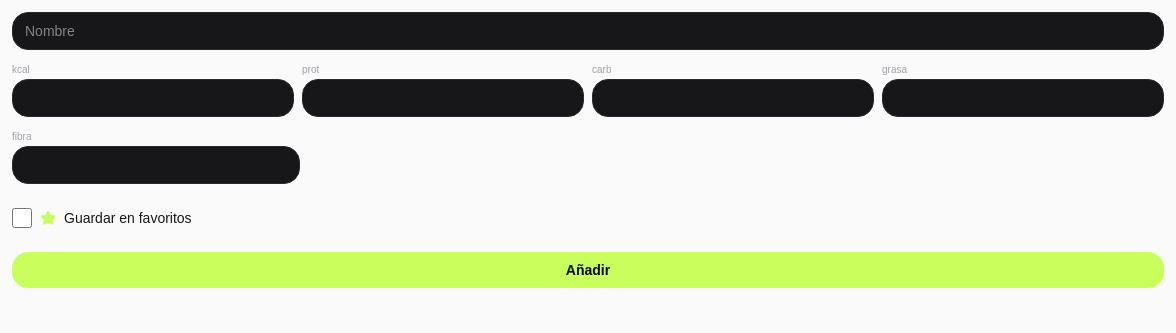
R3: «Guardar en favoritos» al registrar una personalizada › R3: con la fibra no válida, el mismo error de hoy y no se envía nada
In the field with placeholder "Nombre": (588,31) x1=12 y1=12 x2=1164 y2=50, type "Tortilla francesa"
In the number field labelled "kcal": (153,98) x1=12 y1=79 x2=294 y2=117, type "190"
In the number field labelled "prot": (443,98) x1=302 y1=79 x2=584 y2=117, type "13"
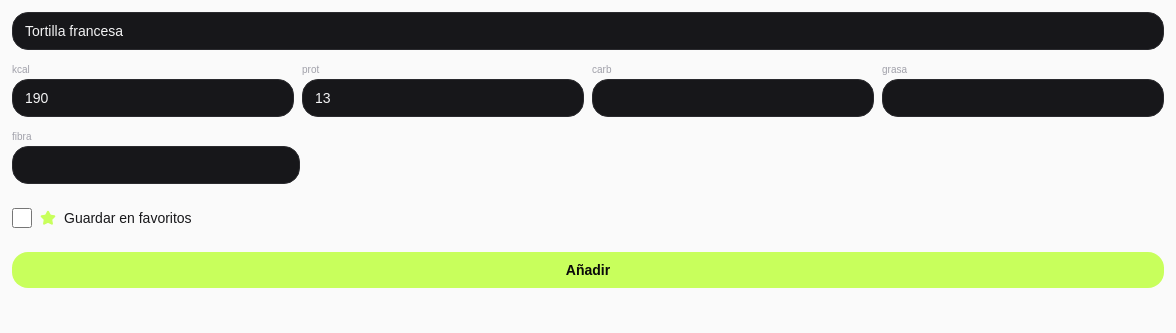
In the number field labelled "carb": (733,98) x1=592 y1=79 x2=874 y2=117, type "1"
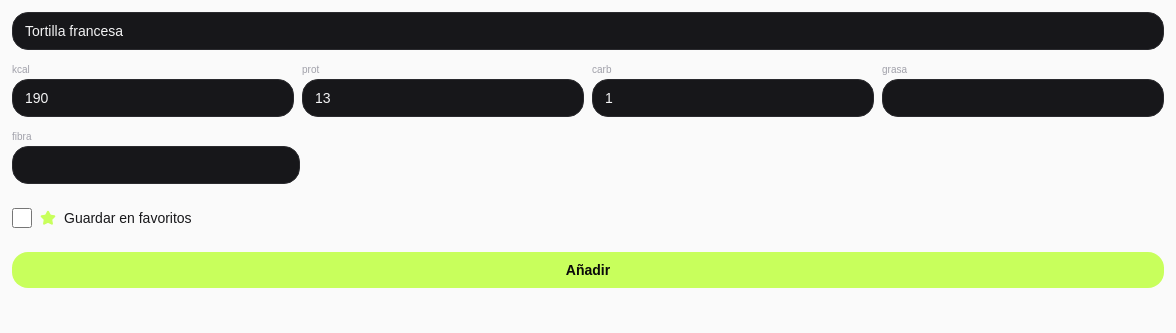
In the number field labelled "grasa": (1023,98) x1=882 y1=79 x2=1164 y2=117, type "15"
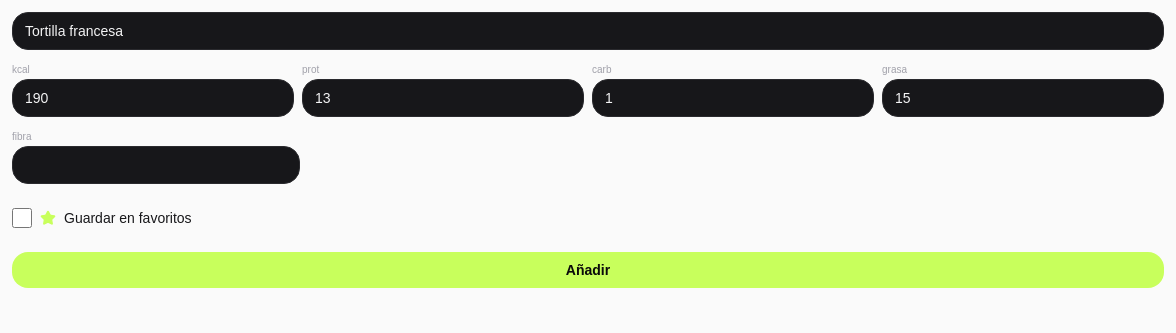
In the field labelled "fibra": (156,165) x1=12 y1=146 x2=300 y2=184, type "abc"
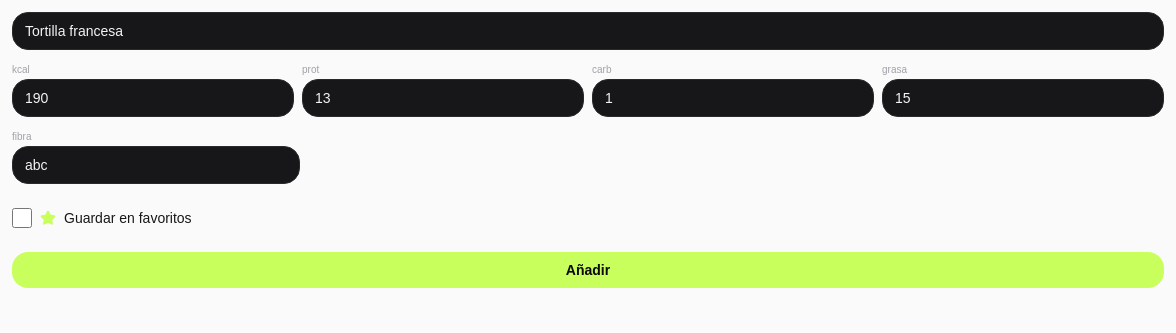
Click the checkbox labelled "Guardar en favoritos": (22,218) x1=12 y1=208 x2=32 y2=228
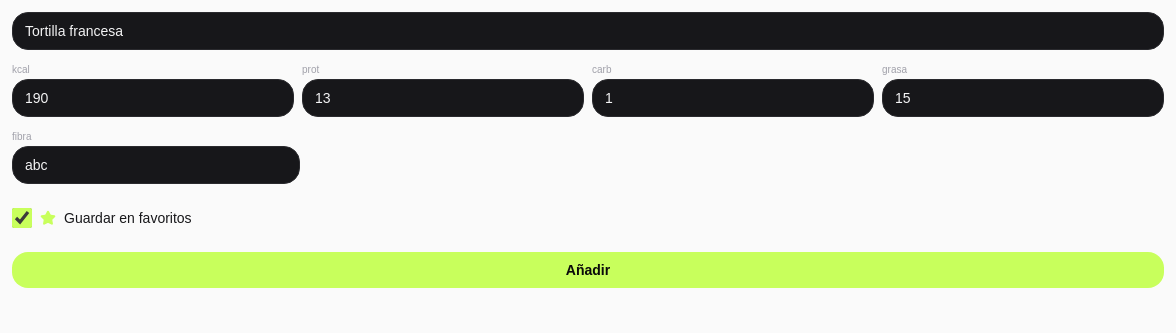
Click the button "Añadir": (588,270) x1=12 y1=252 x2=1164 y2=288
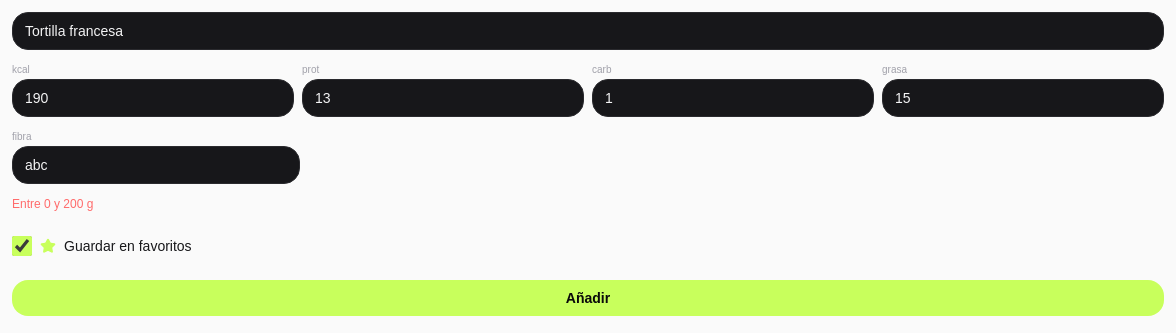
Result: the message reads "Entre 0 y 200 g" at x1=12 y1=197 x2=93 y2=211
